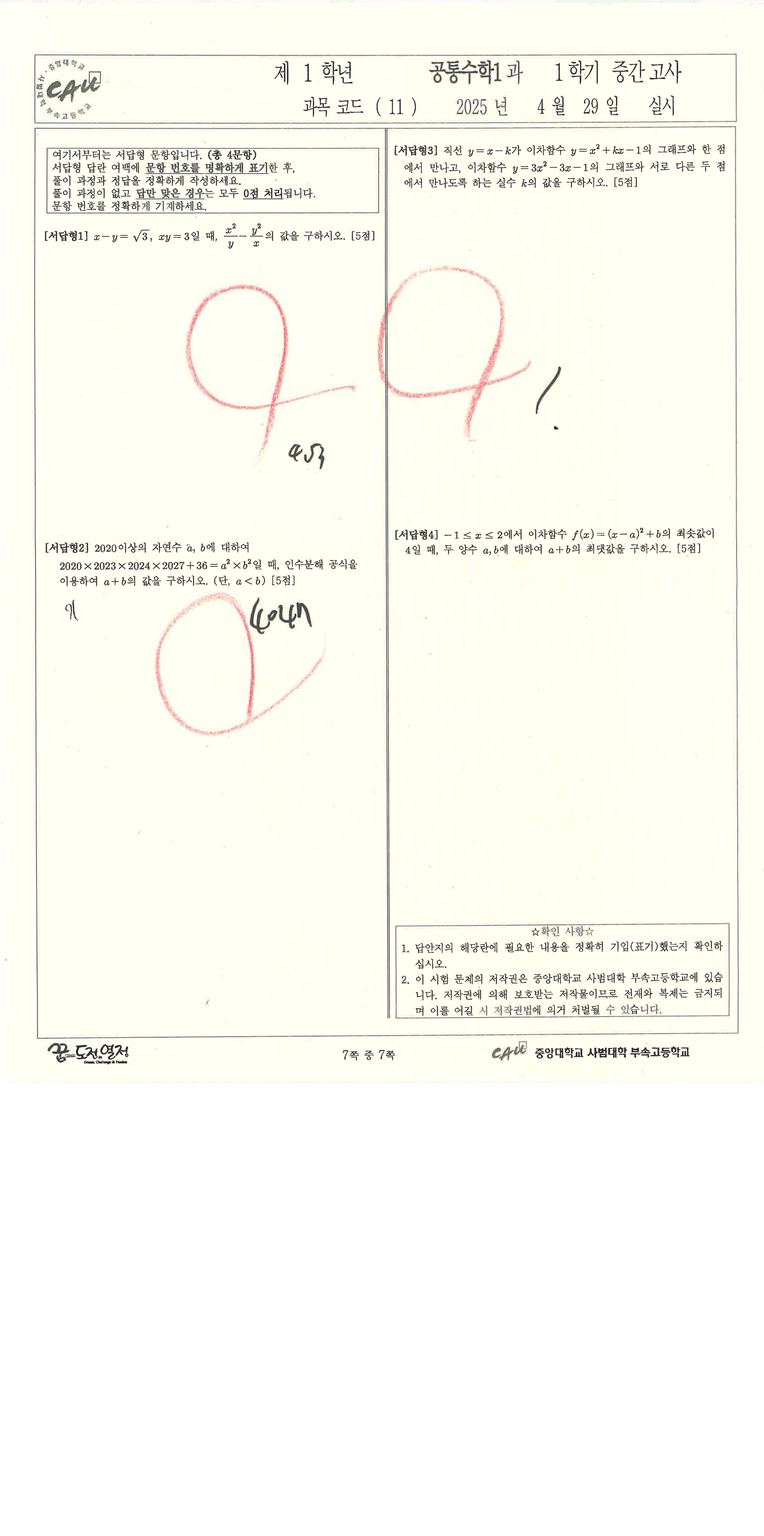problem: (392, 131, 728, 200), (40, 526, 370, 593), (390, 515, 725, 565), (89, 217, 379, 253)
